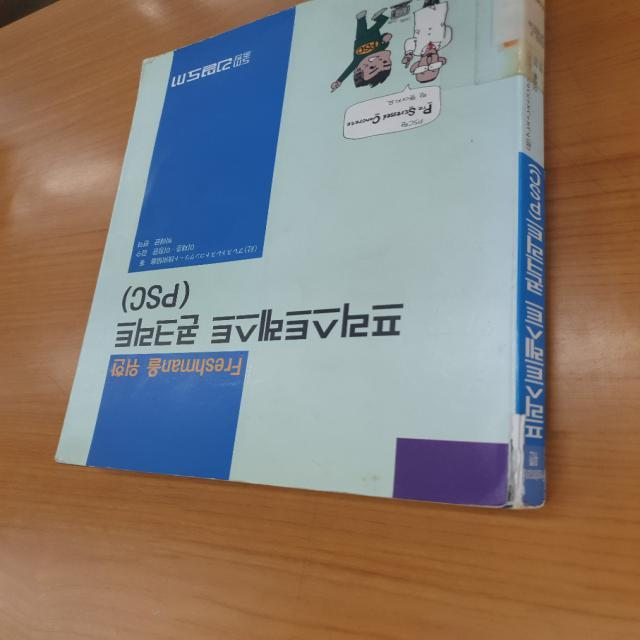Ripped: (500, 412, 528, 508), (539, 467, 551, 509)
Wornout: (394, 490, 500, 510), (175, 29, 227, 52), (167, 465, 227, 482), (51, 450, 100, 469), (139, 49, 173, 70)
